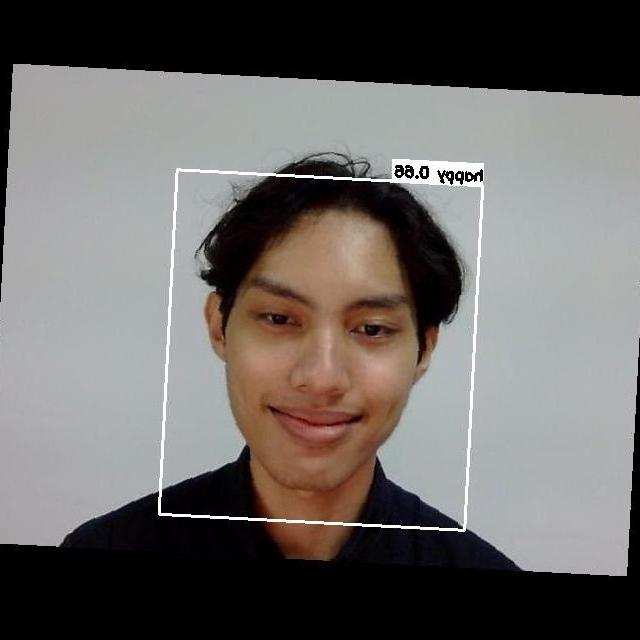Happy: (228, 253, 419, 472)
